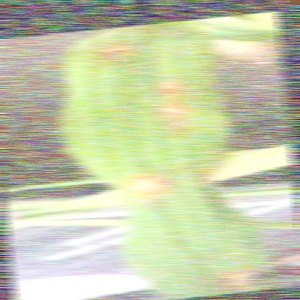Brown_Spot: (208, 259, 272, 300), (121, 162, 179, 207), (88, 34, 141, 74), (151, 97, 194, 135), (145, 72, 188, 99)
